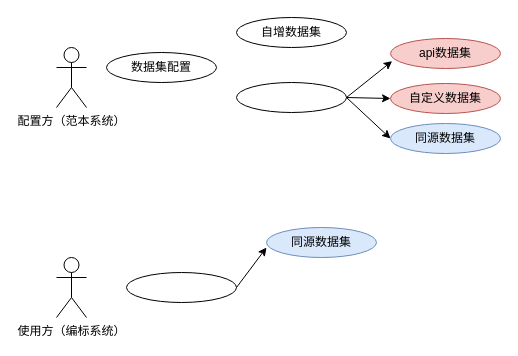
Image size: 518x356. Some labels were removed from this diagram. The centre of each missing label's shape, as x and y in pixels:
业务数据集: pixel 291 97
数据集配置信息: pixel 181 287
